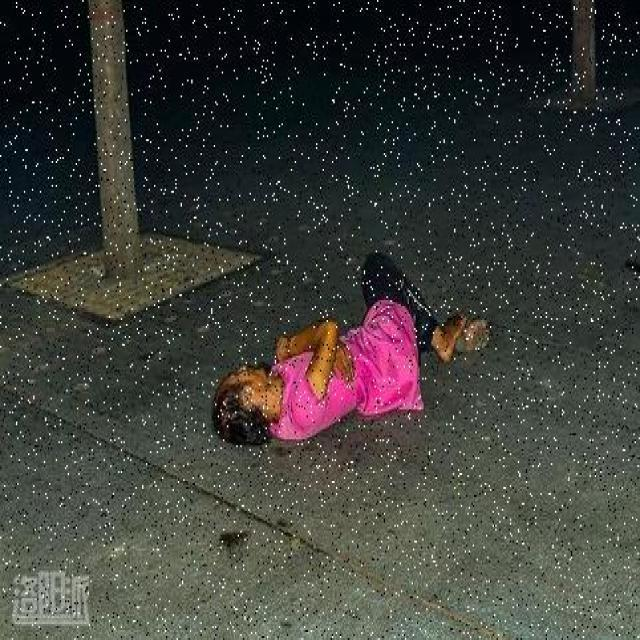fall: (215, 260, 492, 452)
